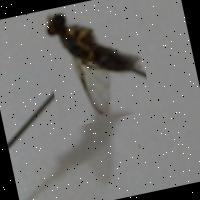Oriental-fruit-fly: (36, 0, 153, 129)
